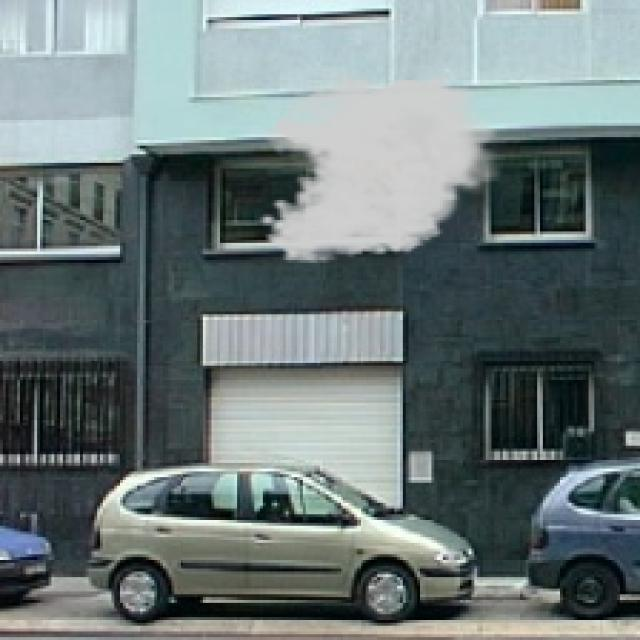smoke: (257, 63, 509, 266)
